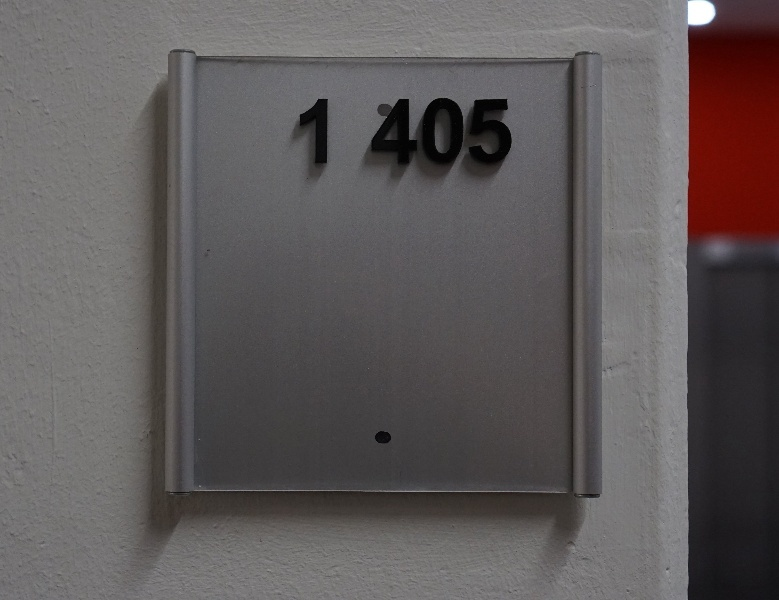text: (385, 98, 400, 165), (401, 98, 416, 165), (417, 98, 432, 165), (433, 98, 448, 165), (449, 98, 464, 165), (465, 98, 480, 165), (481, 98, 496, 165), (497, 98, 512, 165), (305, 99, 320, 164), (373, 98, 384, 165), (321, 99, 329, 164), (299, 99, 304, 164)
